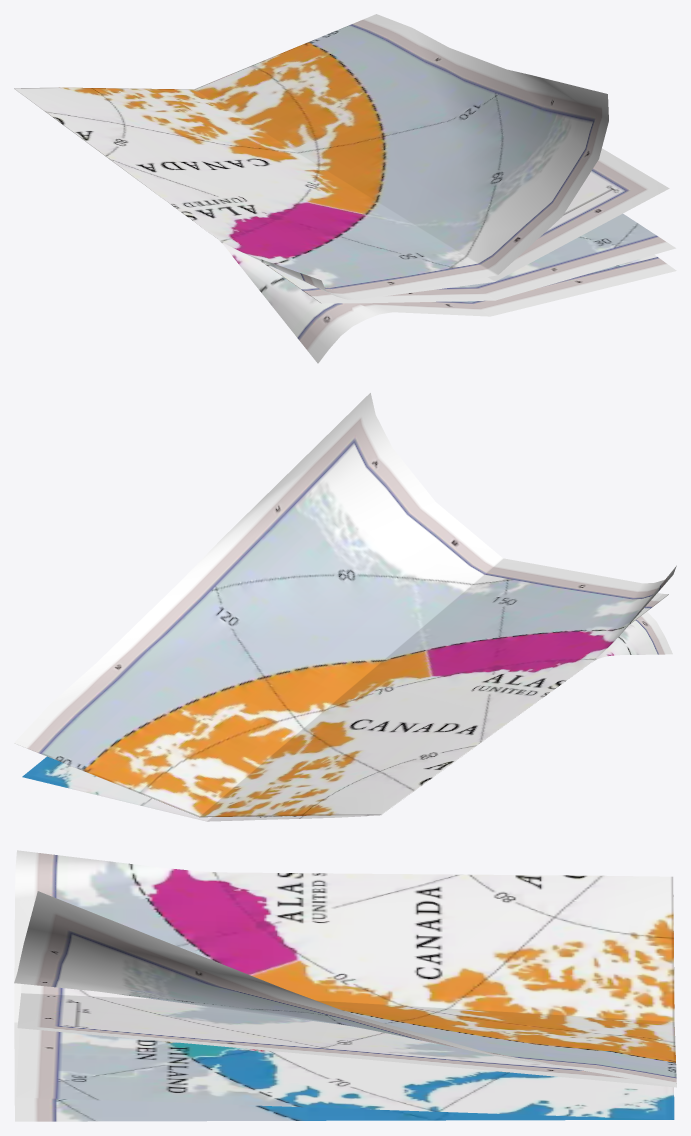
File: 250610_ClosedMap.glb
3 views of the same model, one above another, from view 1: azimuth 30°, elevation 25°; view 2: azimuth 150°, elevation 25°; view 3: azimuth 270°, elevation 25° (orthographic). The views are drawn at different scales.
Parts seen in each view (by area): view 1: OK_Map:Map20; view 2: OK_Map:Map20; view 3: OK_Map:Map20.
Part boxes in pixels (x1,y1,x2,y2): OK_Map:Map20: [14, 14, 676, 363]; OK_Map:Map20: [14, 393, 676, 821]; OK_Map:Map20: [14, 850, 676, 1121].
Bounding box in the file's own units: 0.1003 × 0.0503 × 0.1435.
1 material, 1 textured.
